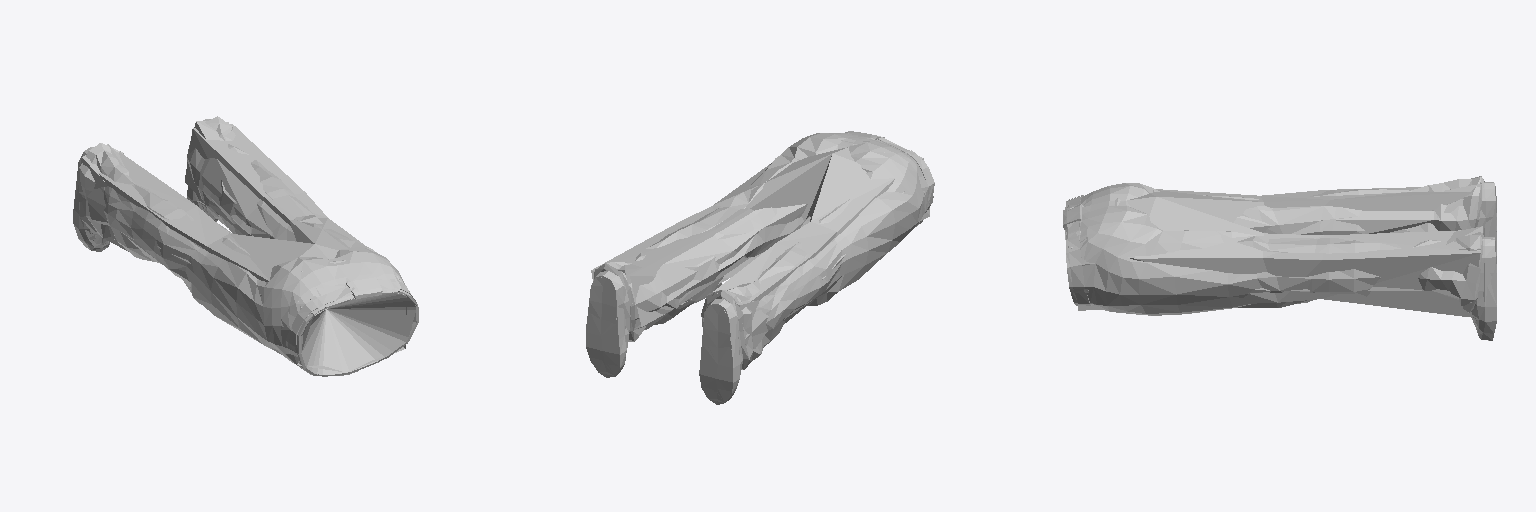
The model's file is lowr_004_u.obj.
3 views of the same model, side by side, from view 1: azimuth 30°, elevation 25°; view 2: azimuth 150°, elevation 25°; view 3: azimuth 270°, elevation 25° (orthographic).
Parts seen in each view (by area): view 1: lowr_004_u_high_1, lowr_004_u_low_1, lowr_004_u_med_1; view 2: lowr_004_u_high_1, lowr_004_u_low_1, lowr_004_u_med_1; view 3: lowr_004_u_high_1, lowr_004_u_low_1, lowr_004_u_med_1.
Boxes of the visible parts, <box> form: lowr_004_u_high_1: <box>73,116,418,376</box>; lowr_004_u_low_1: <box>74,124,406,371</box>; lowr_004_u_med_1: <box>78,121,416,374</box>; lowr_004_u_high_1: <box>586,131,934,404</box>; lowr_004_u_low_1: <box>586,136,929,402</box>; lowr_004_u_med_1: <box>586,133,931,402</box>; lowr_004_u_high_1: <box>1063,176,1496,340</box>; lowr_004_u_low_1: <box>1066,187,1496,329</box>; lowr_004_u_med_1: <box>1064,183,1496,328</box>.
Size of the model in its own units: 0.4326 by 0.3042 by 1.03.